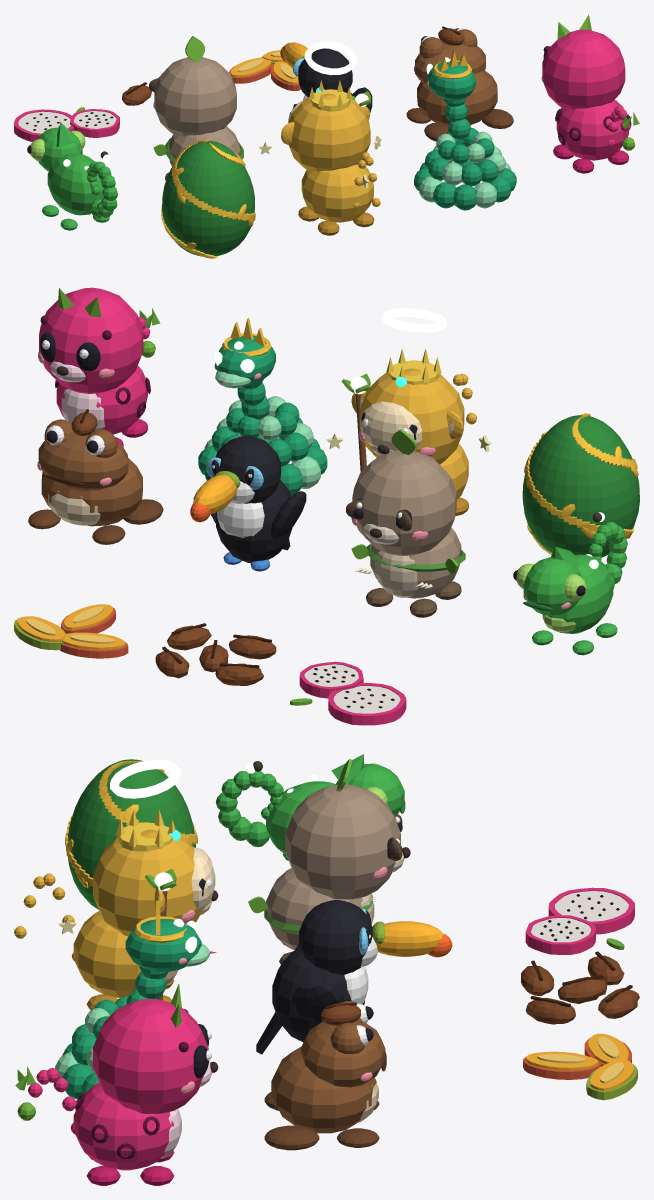
The model's file is JungleTemple.fbx.
3 renders of one model, top to bottom at view 1: azimuth 30°, elevation 25°; view 2: azimuth 150°, elevation 25°; view 3: azimuth 270°, elevation 25°, orthographic. The views are drawn at different scales.
Visible parts, largest first — view 1: Pet_E8B33A, Pet_E8337E, Egg_2E8B3A, Pet_A8907A, Pet_1FA06A, Pet_3FB04A, Pet_8A5A34, Pet_8FE0B0, Pet_22222A, Egg_FFC83A, Top_F6F0EC, Top_E8337E (+15 smaller); view 2: Egg_2E8B3A, Pet_A8907A, Pet_E8337E, Pet_3FB04A, Pet_8A5A34, Pet_1FA06A, Pet_E8B33A, Pet_22222A, Top_7A4424, Top_F6F0EC, Pet_8FE0B0, Top_E8337E (+19 smaller); view 3: Pet_E8337E, Pet_A8907A, Pet_E8B33A, Pet_8A5A34, Pet_22222A, Egg_2E8B3A, Pet_3FB04A, Pet_1FA06A, Top_7A4424, Top_F6F0EC, Top_E8337E, Top_FFB52E (+18 smaller).
Boxes of the visible parts, x1,y1,x2,y2 form: Pet_E8B33A: [281, 93, 380, 222]; Pet_E8337E: [542, 29, 630, 160]; Egg_2E8B3A: [162, 141, 254, 256]; Pet_A8907A: [154, 57, 240, 166]; Pet_1FA06A: [414, 60, 516, 210]; Pet_3FB04A: [38, 122, 117, 230]; Pet_8A5A34: [415, 29, 497, 124]; Pet_8FE0B0: [419, 131, 511, 208]; Pet_22222A: [293, 48, 372, 112]; Egg_FFC83A: [161, 140, 255, 258]; Top_F6F0EC: [18, 111, 116, 133]; Top_E8337E: [14, 109, 119, 141]; Egg_2E8B3A: [522, 415, 639, 557]; Pet_A8907A: [352, 450, 461, 598]; Pet_E8337E: [39, 287, 150, 434]; Pet_3FB04A: [523, 521, 627, 655]; Pet_8A5A34: [38, 419, 142, 526]; Pet_1FA06A: [198, 336, 327, 495]; Pet_E8B33A: [351, 368, 476, 499]; Pet_22222A: [208, 436, 306, 563]; Top_7A4424: [155, 625, 276, 685]; Top_F6F0EC: [304, 664, 400, 713]; Pet_8FE0B0: [204, 371, 320, 488]; Top_E8337E: [299, 661, 406, 725]; Pet_E8337E: [28, 999, 208, 1170]; Pet_A8907A: [266, 784, 400, 950]; Pet_E8B33A: [14, 829, 200, 997]; Pet_8A5A34: [271, 1001, 385, 1133]; Pet_22222A: [256, 900, 372, 1054]; Egg_2E8B3A: [68, 759, 195, 909]; Pet_3FB04A: [215, 754, 404, 871]; Pet_1FA06A: [62, 919, 201, 1099]; Top_7A4424: [521, 955, 639, 1024]; Top_F6F0EC: [531, 891, 628, 942]; Top_E8337E: [525, 887, 634, 954]; Top_FFB52E: [525, 1033, 634, 1090].
Size of the model in its own units: 7.6 by 2.47 by 5.86.
